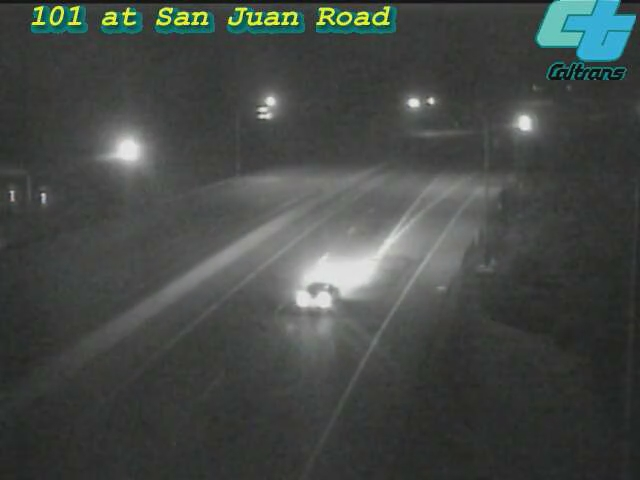vehicle: (275, 257, 355, 337), (502, 97, 552, 147)
